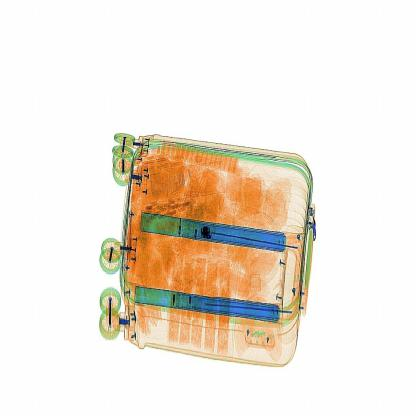scissors: (195, 218, 217, 244)
